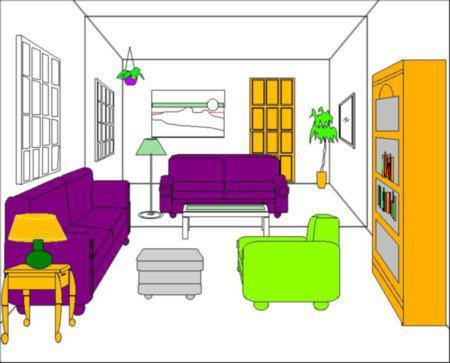chair: (238, 211, 344, 312)
diningtable: (178, 201, 272, 241)
pottedplant: (306, 105, 340, 191), (114, 64, 145, 86)
sofa: (2, 163, 132, 317), (155, 152, 292, 220)
